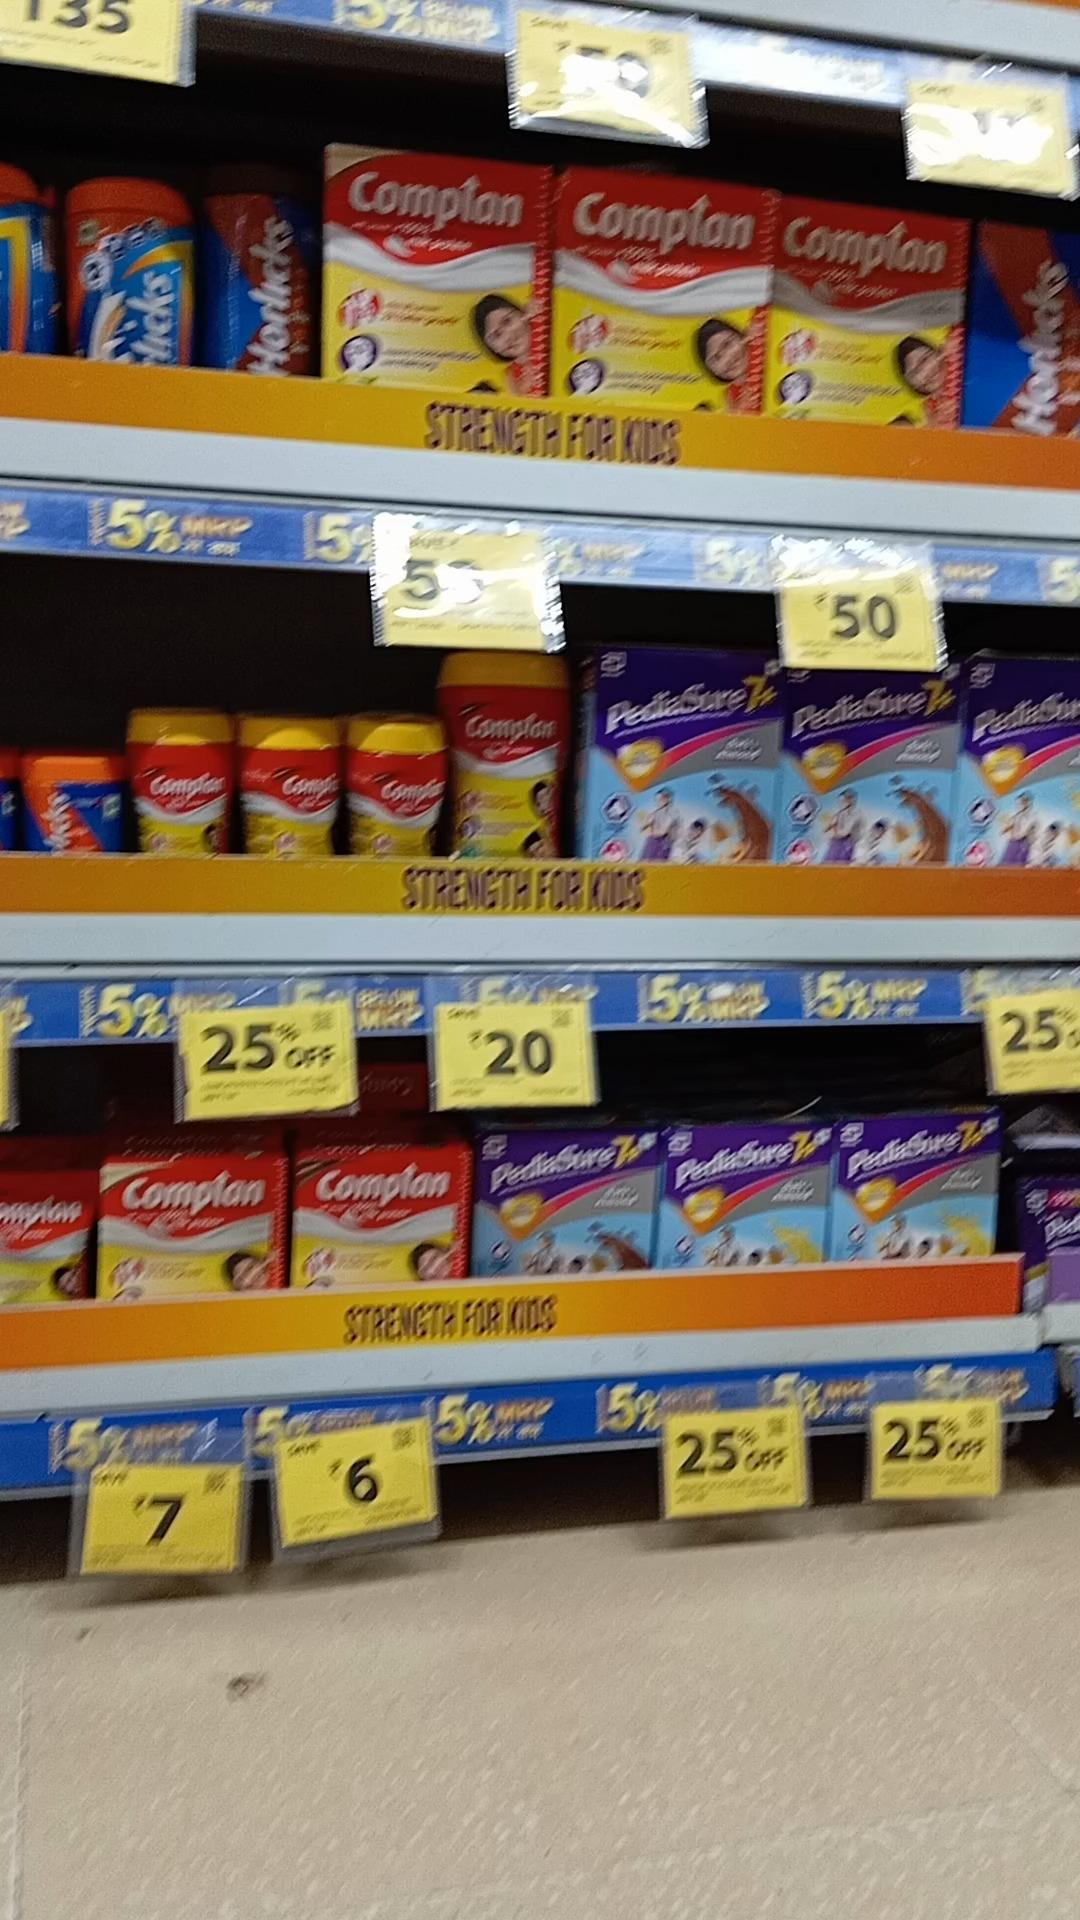COMPLAN_CHOCOLATE_200_GMS_JAR: (146, 703, 241, 861), (364, 717, 446, 861), (270, 720, 347, 857)
COMPLAN_CHOCOLATE_500_GMS_JAR: (451, 651, 567, 857)
COMPLAN_KESAR_BADAM_500_GMS_PACK: (320, 145, 538, 392)
HORLICK_CHOCOLATE_500_G_JAR: (204, 158, 316, 377)
HORLICK_CLASSIC_MALT_500_G_JAR: (67, 177, 191, 367)
PEDIASURE_7_PLUS_CHOCOLATE_400_G_PACK: (599, 646, 781, 862), (786, 663, 957, 865)
